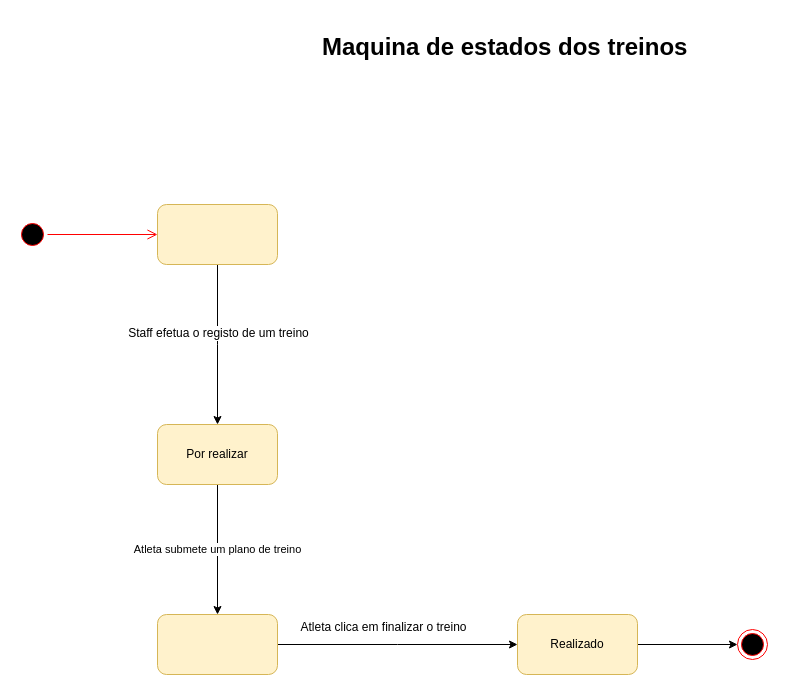
This 785x692 diagram has some shape labels left out. The shapes that lost their labels are listed below. From the top down, each one's centre as x and y in pixels, then its label:
At point 217,234: "Idle".
At point 217,644: "Em andamento".
